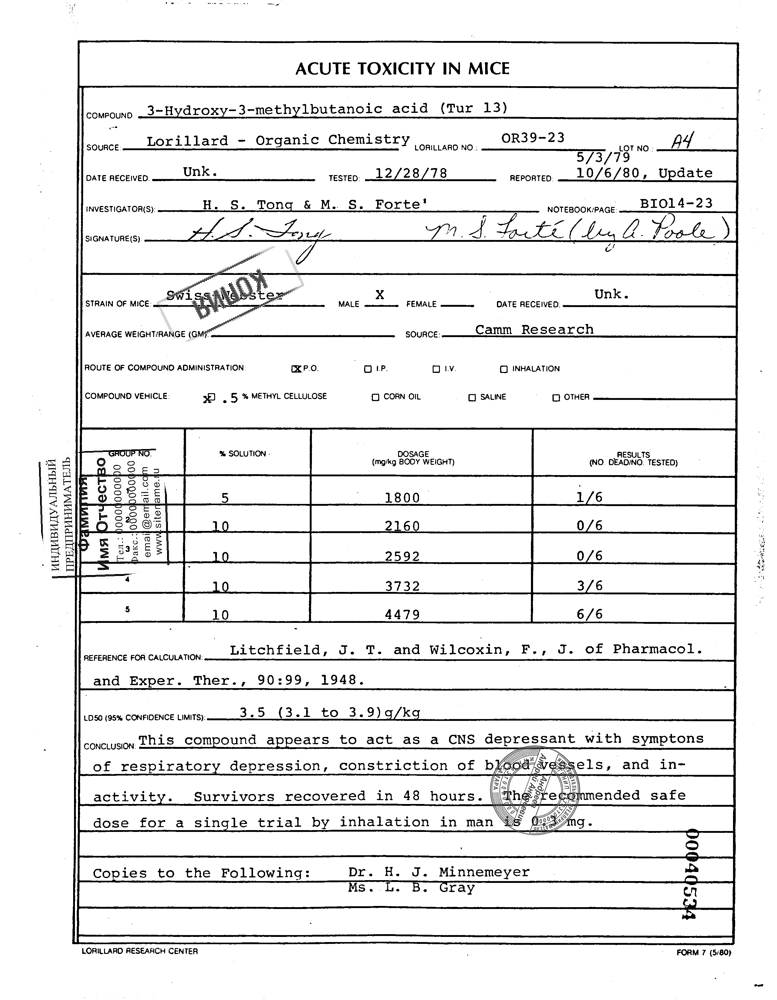circle_2: (477, 733, 593, 848)
rectangle_1: (38, 448, 170, 579)
word_1: (153, 238, 308, 350)
